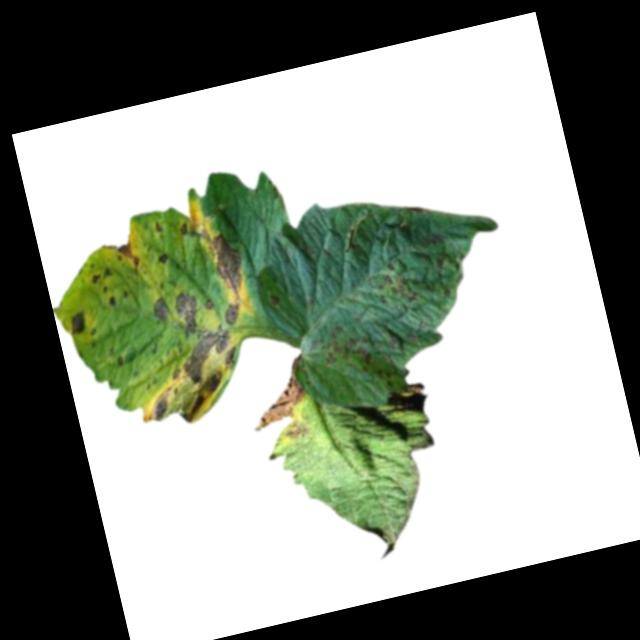Early_blight: (127, 322, 254, 434), (241, 355, 311, 430), (308, 322, 377, 379), (202, 230, 252, 303), (369, 259, 417, 314), (169, 287, 204, 338), (113, 239, 142, 276), (220, 300, 244, 329), (66, 311, 89, 338), (87, 263, 115, 285), (148, 297, 170, 323), (285, 421, 308, 442), (176, 220, 192, 239), (155, 253, 170, 267), (105, 294, 118, 310), (268, 294, 282, 308), (151, 220, 163, 236), (204, 300, 213, 312)
